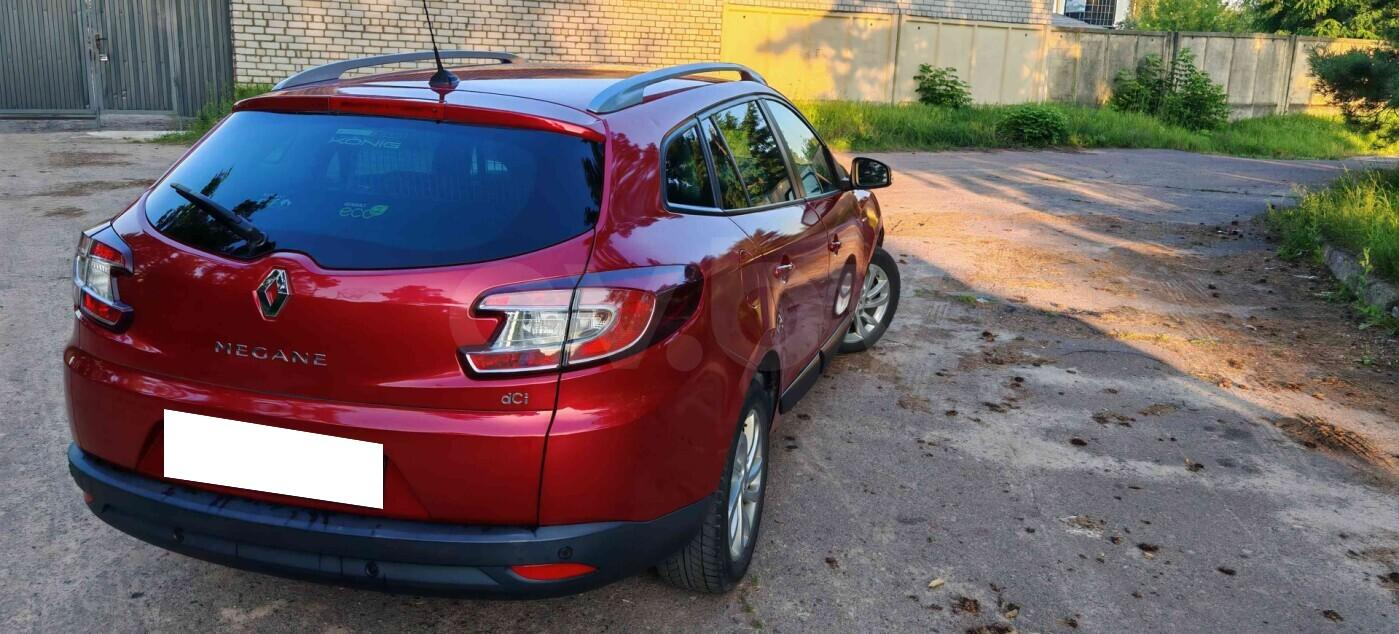Megane_2012-2014: (52, 57, 921, 599)
